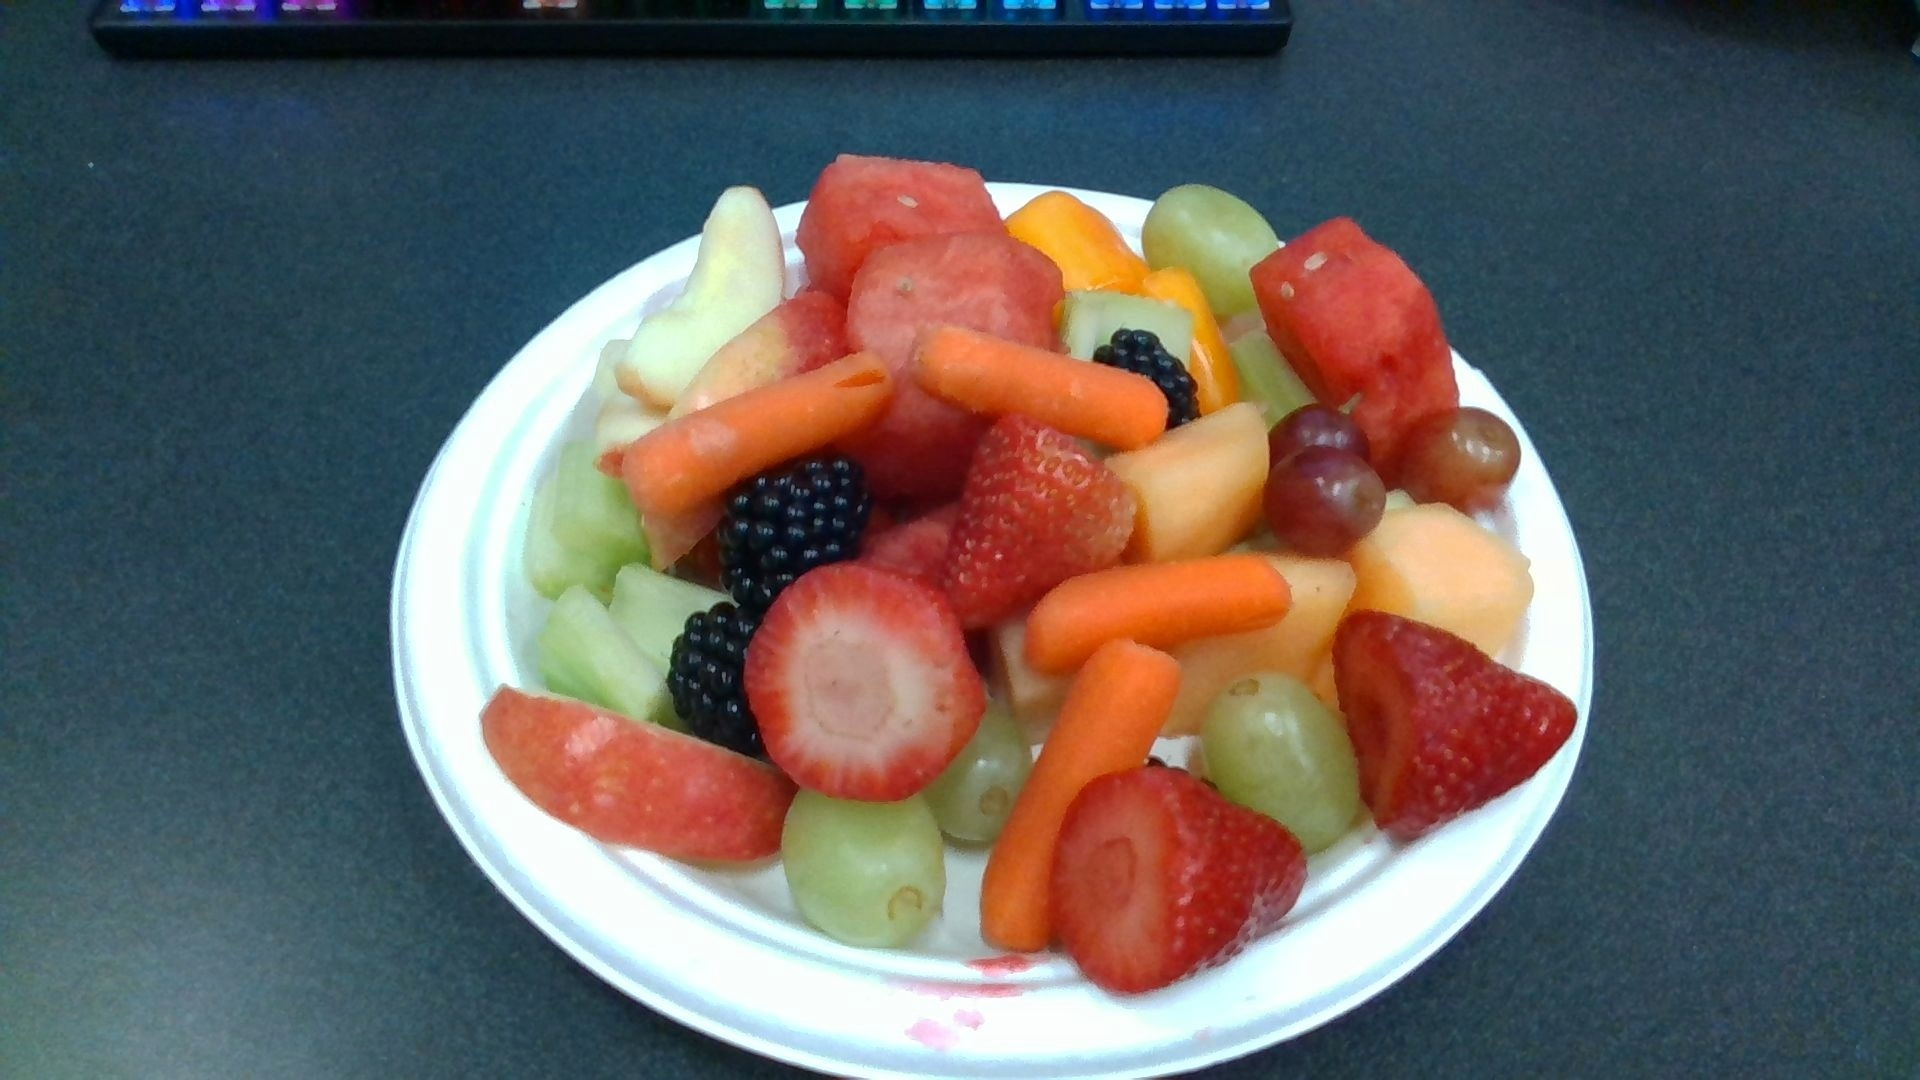apple: (480, 683, 796, 861), (620, 190, 782, 407), (674, 287, 847, 418)
blackberry: (723, 456, 870, 597)
cantalope: (1159, 558, 1360, 736), (1106, 400, 1270, 560), (1354, 502, 1530, 646)
carrot: (978, 641, 1180, 951), (624, 353, 894, 516), (915, 323, 1168, 448), (1022, 556, 1290, 670)
grape_green: (781, 785, 947, 945), (1204, 675, 1356, 848), (1142, 183, 1279, 311)
grape_purple: (1265, 446, 1387, 551), (1399, 407, 1520, 500)
melon: (1254, 215, 1460, 473), (845, 241, 1060, 368), (796, 158, 1005, 278)
strawberry: (1050, 767, 1305, 990), (744, 568, 984, 800), (1335, 613, 1577, 837), (945, 415, 1134, 630)
